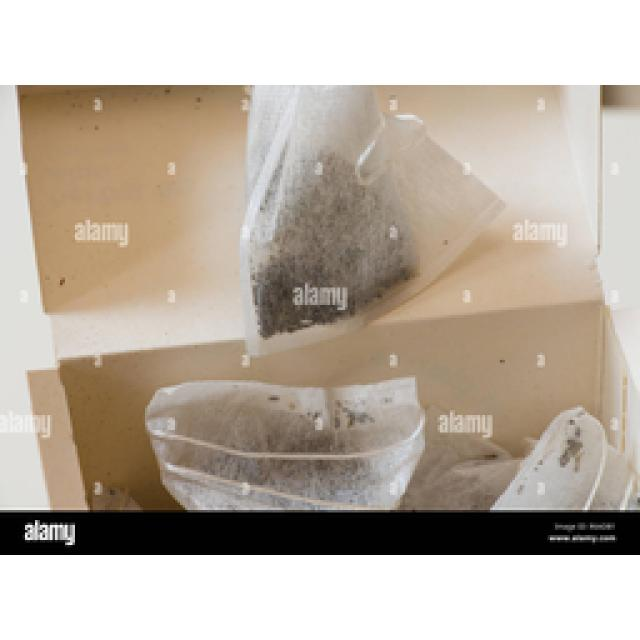tea-bags: (240, 85, 502, 355), (145, 380, 422, 508)
